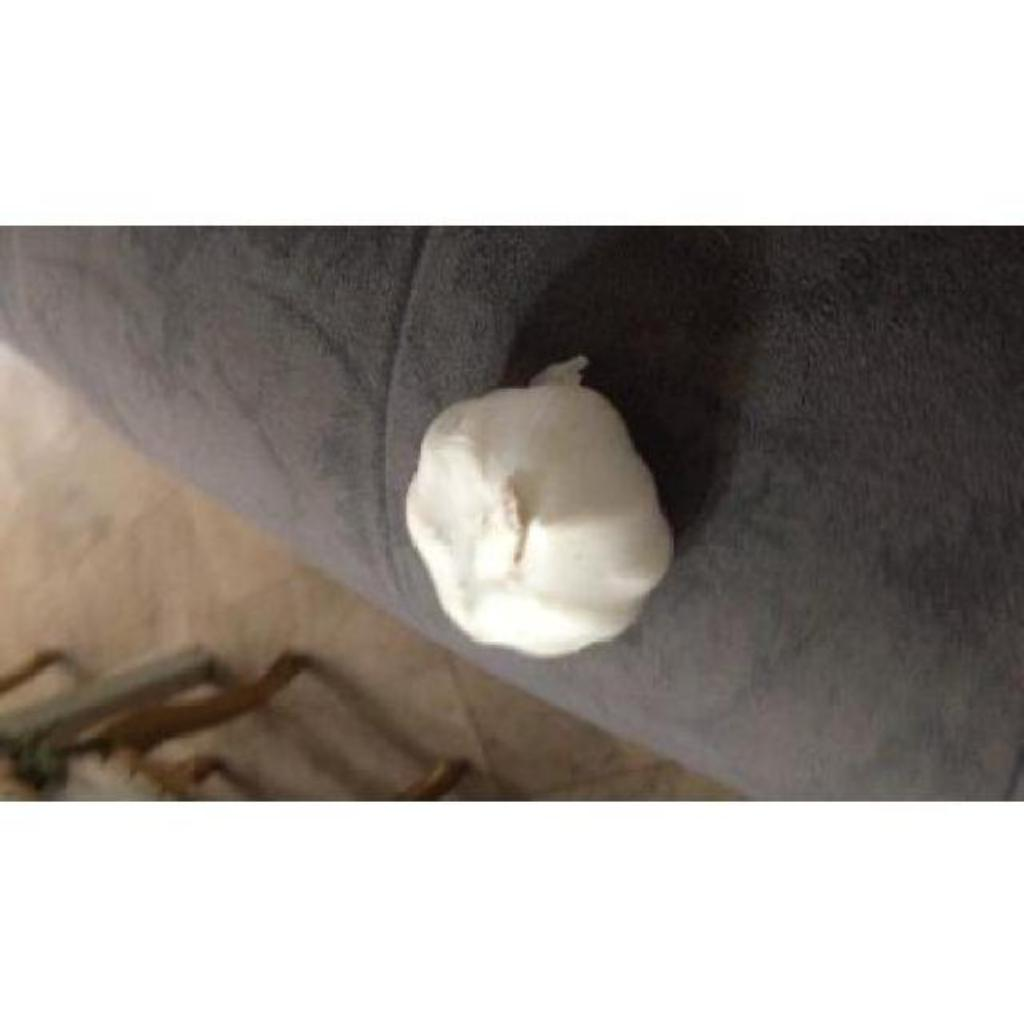garlic: (406, 356, 672, 656)
